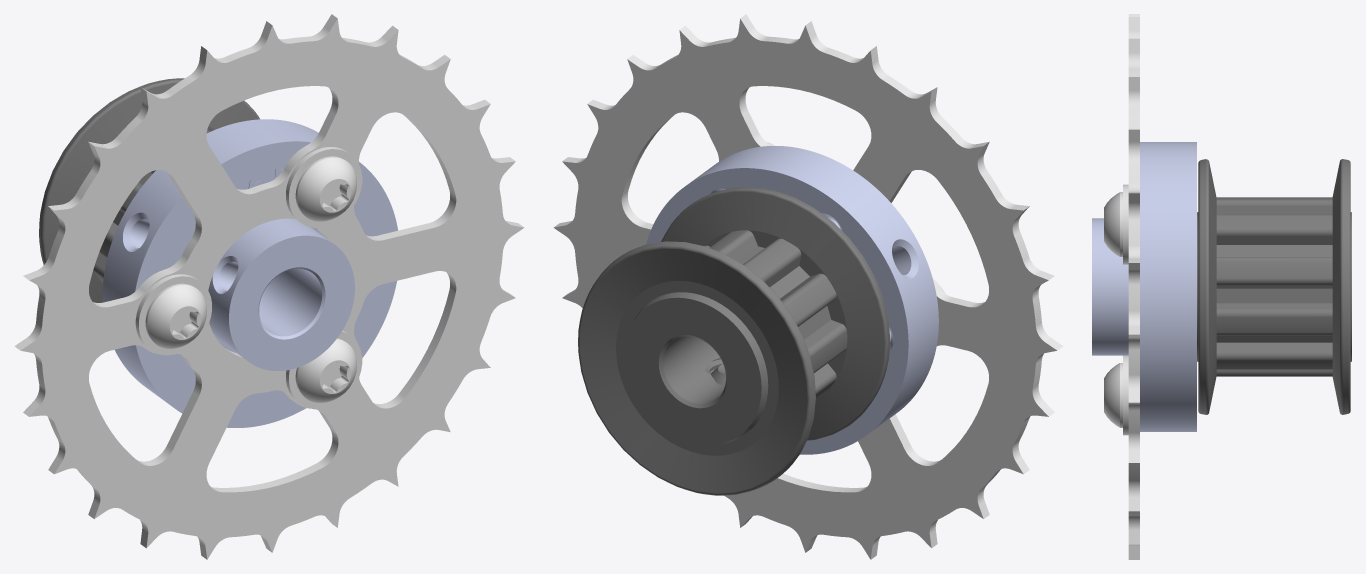
Rendered from Mrs Buff Mk2 Wheel.dae.
3 renders of one model, left to right at view 1: azimuth 30°, elevation 25°; view 2: azimuth 150°, elevation 25°; view 3: azimuth 270°, elevation 25°, orthographic. The views are drawn at different scales.
Parts seen in each view (by area): view 1: 1mm TI Cleat Wheel, Shaft Hub-6mm M3, Button Head Torx Screw M3 X 6 Class 8.8 Zinc Plate (×3), Mrs Buff Mk2, M3 X 7 Steel Washer Zinc Plated (×3); view 2: 1mm TI Cleat Wheel, Mrs Buff Mk2, Shaft Hub-6mm M3; view 3: Mrs Buff Mk2, Shaft Hub-6mm M3, 1mm TI Cleat Wheel, Button Head Torx Screw M3 X 6 Class 8.8 Zinc Plate (×2), M3 X 7 Steel Washer Zinc Plated (×2).
Part boxes in pixels (left/top/right/bottom): 1mm TI Cleat Wheel: left=14, top=14, right=524, bottom=559; Shaft Hub-6mm M3: left=102, top=119, right=397, bottom=427; Button Head Torx Screw M3 X 6 Class 8.8 Zinc Plate (×3): left=145, top=156, right=356, bottom=402; Mrs Buff Mk2: left=39, top=78, right=259, bottom=302; M3 X 7 Steel Washer Zinc Plated (×3): left=135, top=147, right=362, bottom=409; 1mm TI Cleat Wheel: left=553, top=14, right=1063, bottom=559; Mrs Buff Mk2: left=578, top=187, right=889, bottom=495; Shaft Hub-6mm M3: left=646, top=146, right=938, bottom=454; Mrs Buff Mk2: left=1197, top=159, right=1351, bottom=414; Shaft Hub-6mm M3: left=1092, top=142, right=1196, bottom=431; 1mm TI Cleat Wheel: left=1128, top=14, right=1139, bottom=559; Button Head Torx Screw M3 X 6 Class 8.8 Zinc Plate (×2): left=1104, top=192, right=1122, bottom=427; M3 X 7 Steel Washer Zinc Plated (×2): left=1123, top=184, right=1128, bottom=435.
Bounding box in the file's own units: 0.048 × 0.0228 × 0.048.
